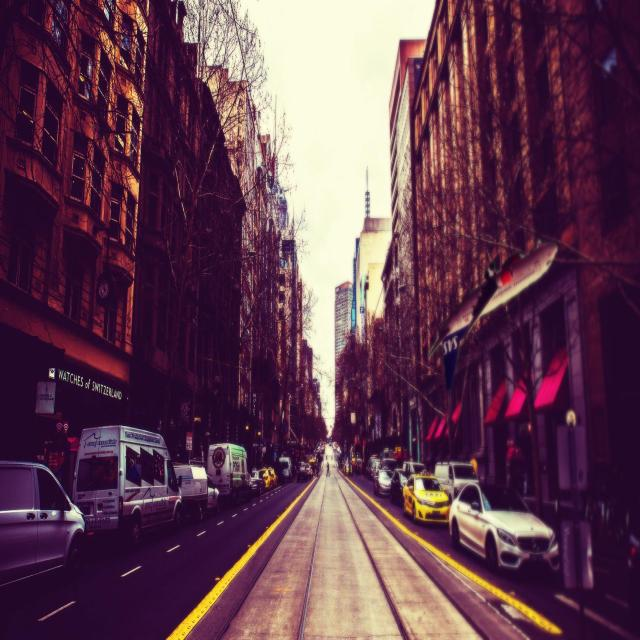airplane: (426, 239, 558, 392)
